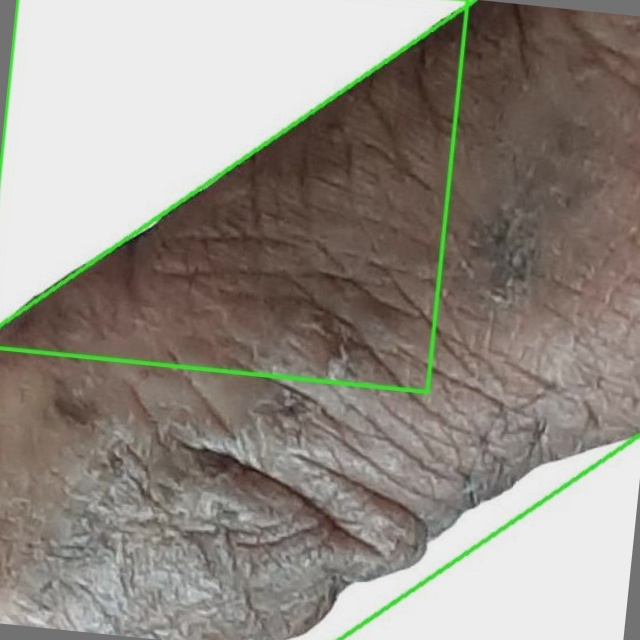Eczema: (0, 11, 639, 636), (0, 0, 467, 392)
